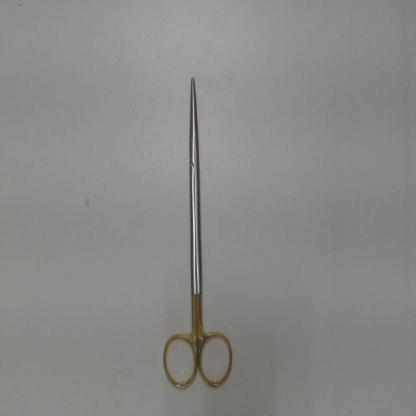7 Metzenbaum Scissors: (158, 68, 239, 394)
